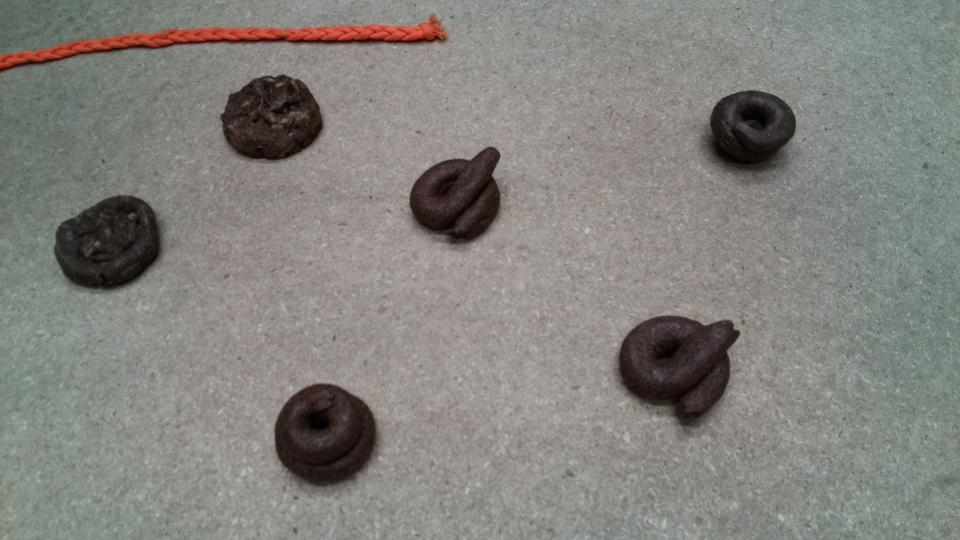poop: (614, 308, 742, 429), (49, 190, 165, 293), (271, 381, 380, 489), (406, 143, 509, 246), (218, 71, 326, 164), (707, 87, 799, 171)
rope: (1, 13, 448, 78)
